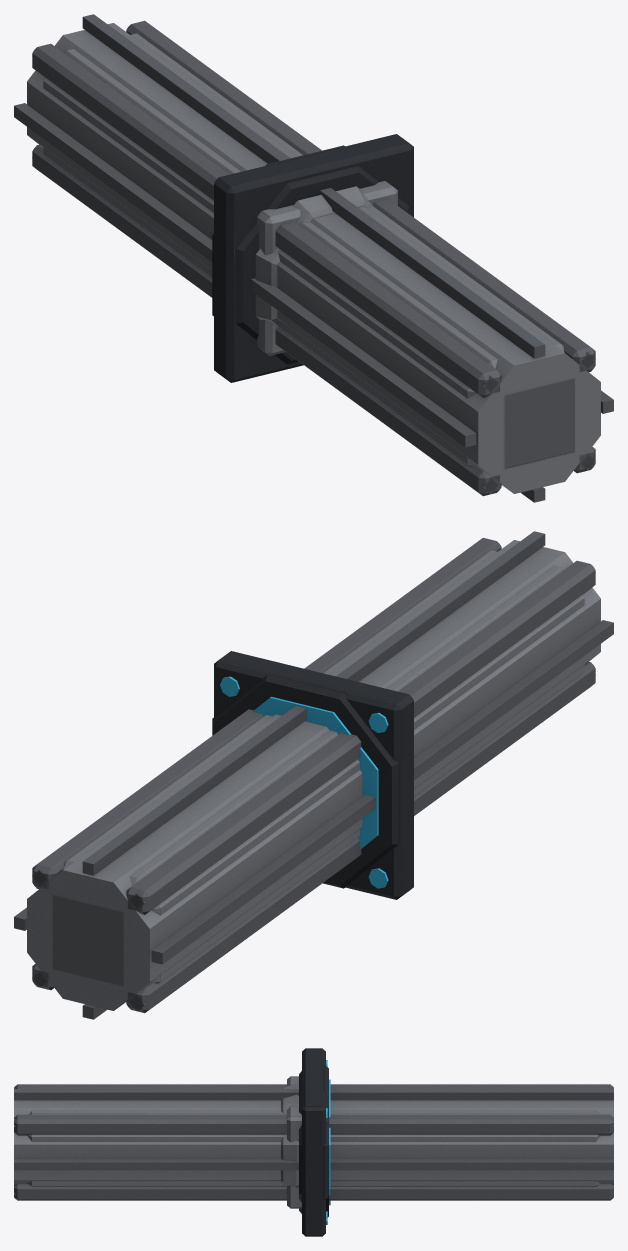
The model's file is SM_Connectors.fbx.
The picture shows the model from 3 angles, top to bottom: view 1: azimuth 30°, elevation 25°; view 2: azimuth 150°, elevation 25°; view 3: azimuth 270°, elevation 25°; orthographic projection. The views are drawn at different scales.
Visible parts, largest first — view 1: CN_Tube, CN_Strut, CN_Plate, CN_Collar; view 2: CN_Tube, CN_Strut, CN_Plate, CN_Collar; view 3: CN_Tube, CN_Strut, CN_Plate, CN_Collar.
Boxes of the visible parts, box(x1,y1,x2,y2) form: CN_Tube: box(14, 14, 613, 502); CN_Strut: box(32, 20, 595, 496); CN_Plate: box(214, 134, 413, 382); CN_Collar: box(212, 145, 409, 364); CN_Tube: box(14, 531, 613, 1019); CN_Strut: box(32, 537, 595, 1013); CN_Plate: box(214, 651, 413, 899); CN_Collar: box(212, 674, 399, 888); CN_Tube: box(14, 1087, 613, 1195); CN_Strut: box(14, 1084, 613, 1200); CN_Plate: box(287, 1048, 327, 1236); CN_Collar: box(281, 1065, 330, 1217).
Bounding box in the file's own units: 0.24 × 0.24 × 1.
